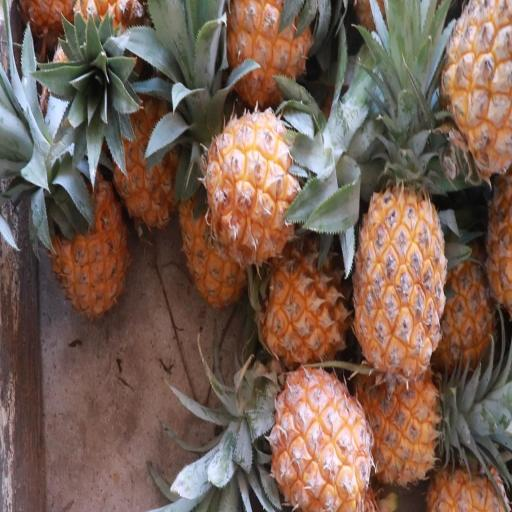Pineapple - v8 v1: (352, 151, 449, 382), (202, 107, 307, 277), (43, 139, 134, 325), (270, 358, 378, 512), (256, 234, 356, 378), (354, 334, 447, 486), (437, 0, 512, 185), (110, 65, 189, 234)
